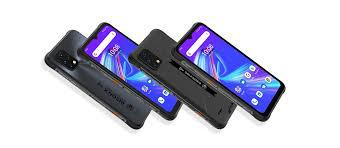Smartphone: (83, 27, 191, 125), (49, 39, 150, 136), (185, 31, 291, 116), (138, 37, 231, 127)
